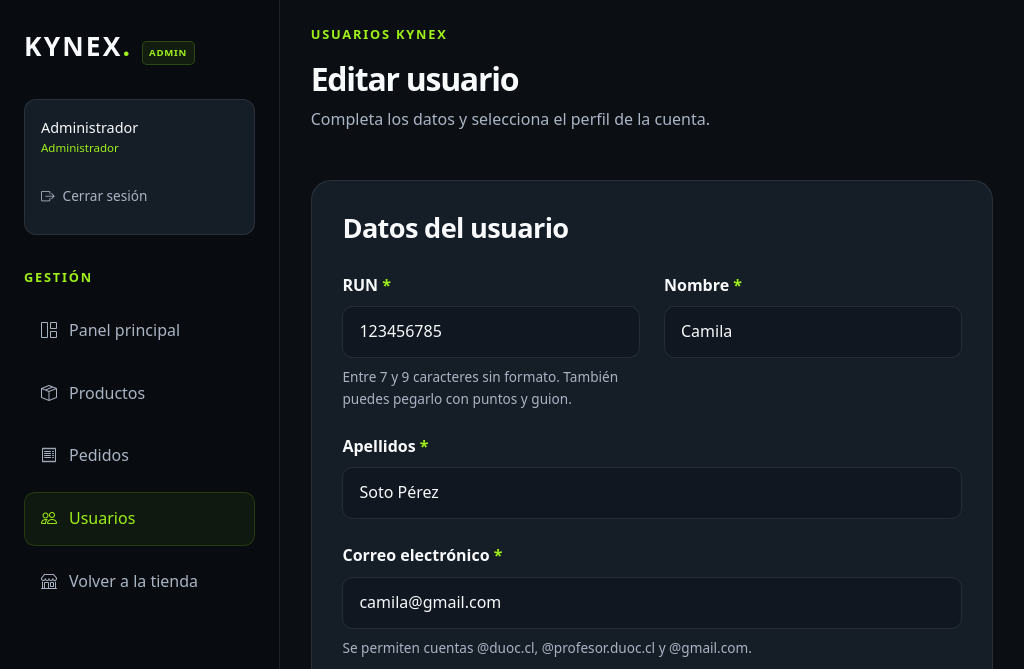
Gestión de usuarios integrada › no reemplaza el borrador con cambios de otra pestaña y exige recargar antes de guardar
This screenshot has width=1024, height=669.
Replace the text in the field labelled "Nombre" with "Borrador local" at (813, 332), box [664,306,962,358]
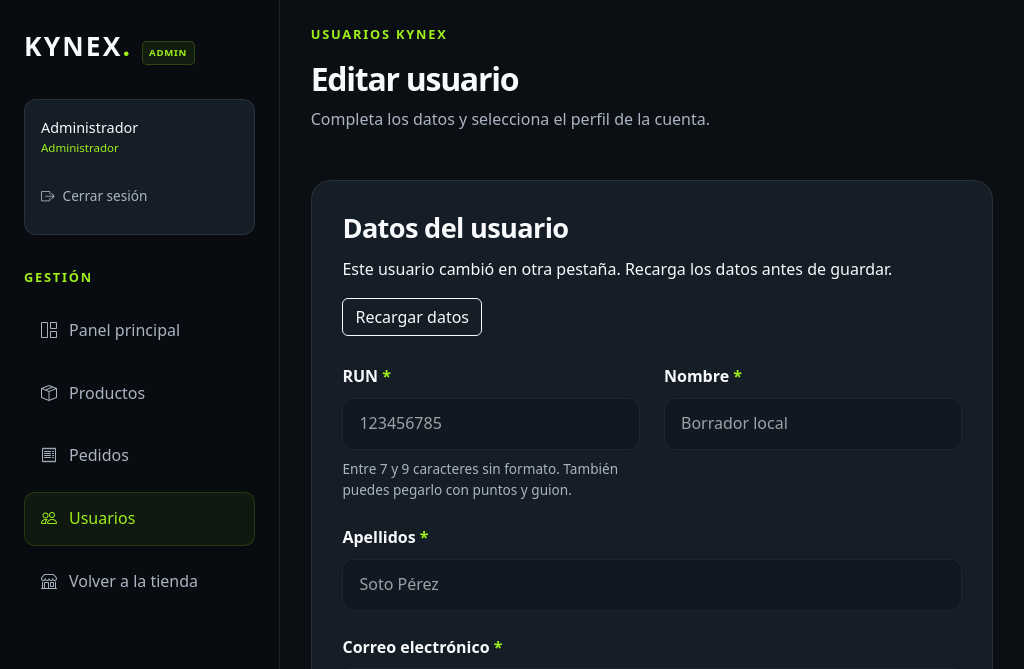
Click the button "Recargar datos" at (412, 317), box [342,298,482,336]
(page scrolled)
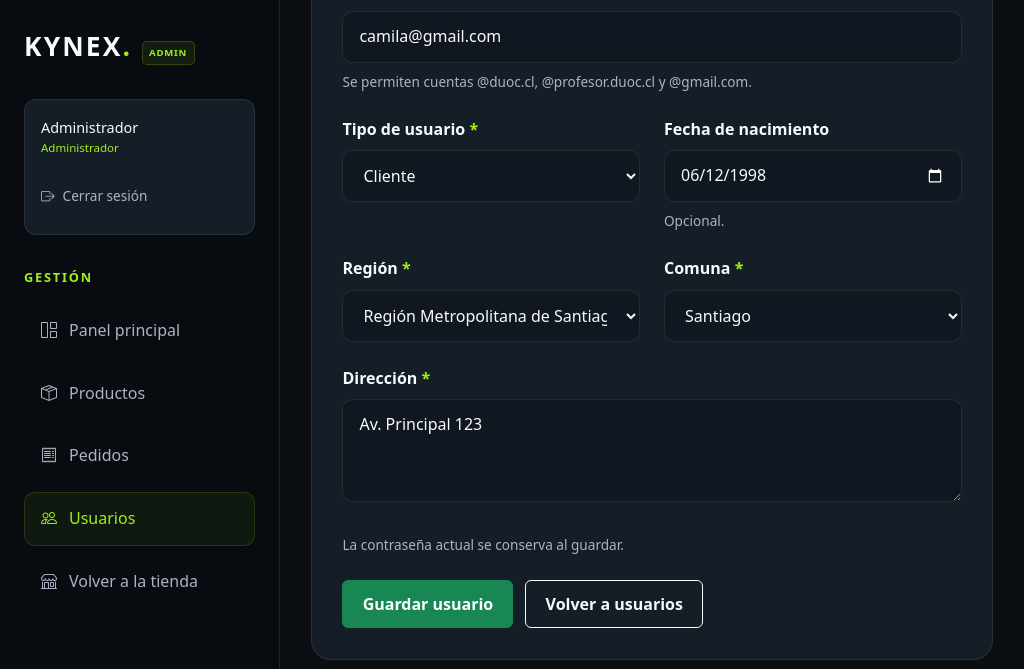
Check: the button "Guardar usuario" is enabled, box [342,580,513,628]
